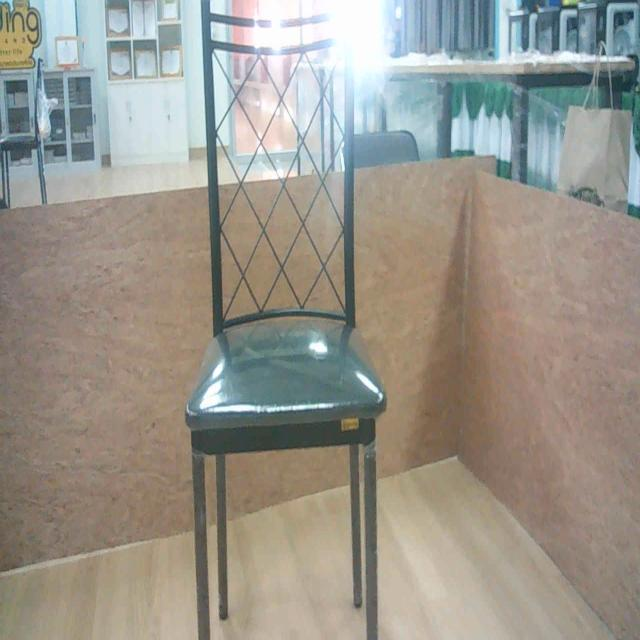emtpy: (181, 0, 383, 640)
